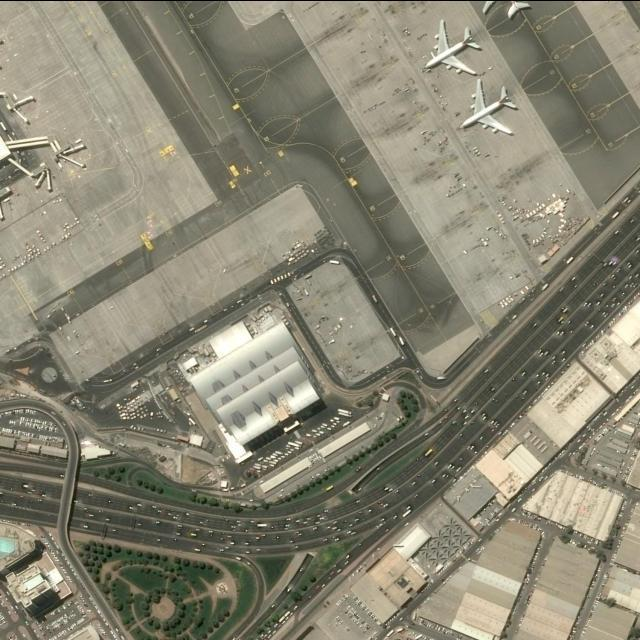Aircraft: (423, 20, 483, 77), (462, 79, 521, 136), (484, 0, 541, 19)
